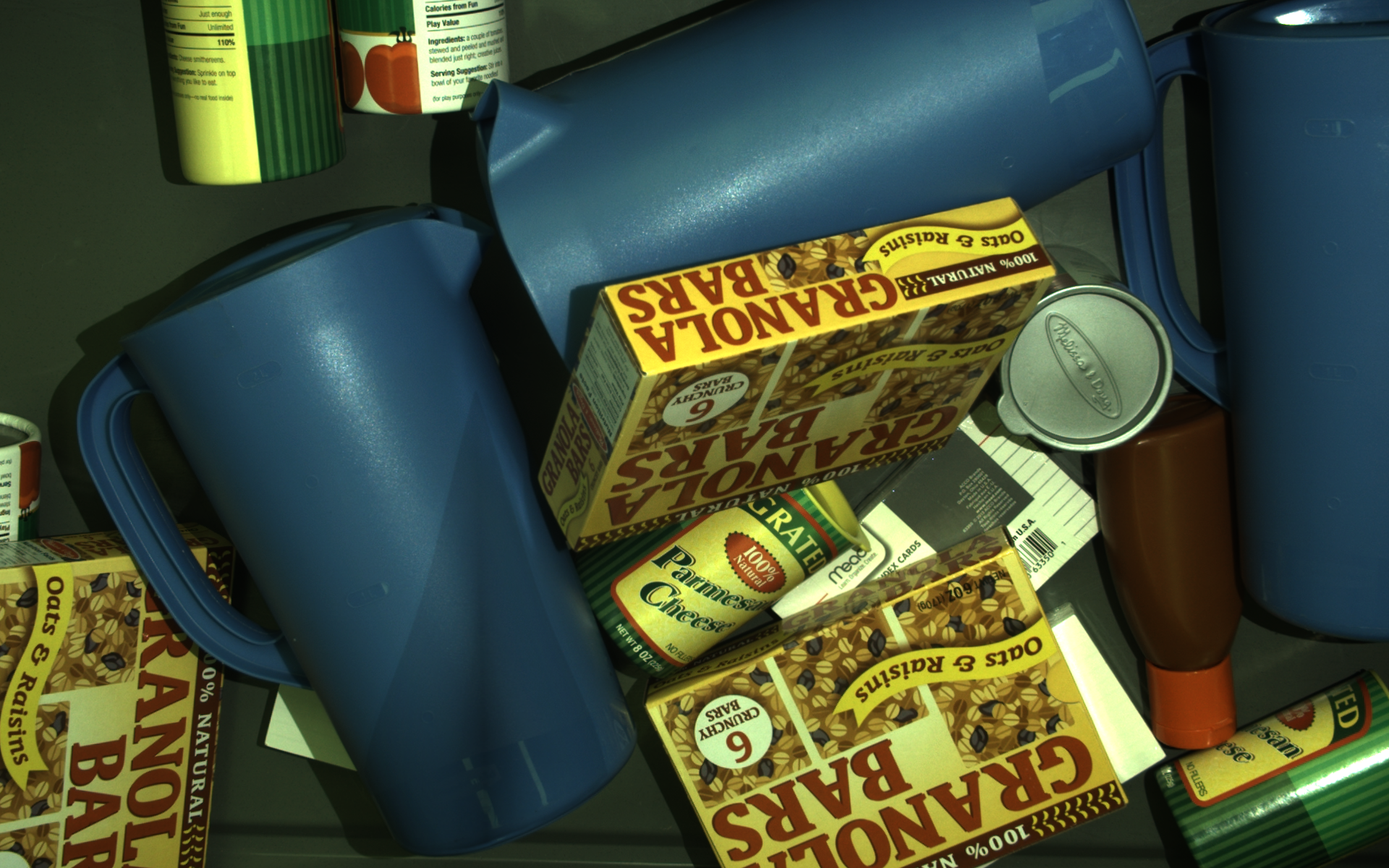defect: (364, 391, 608, 854)
